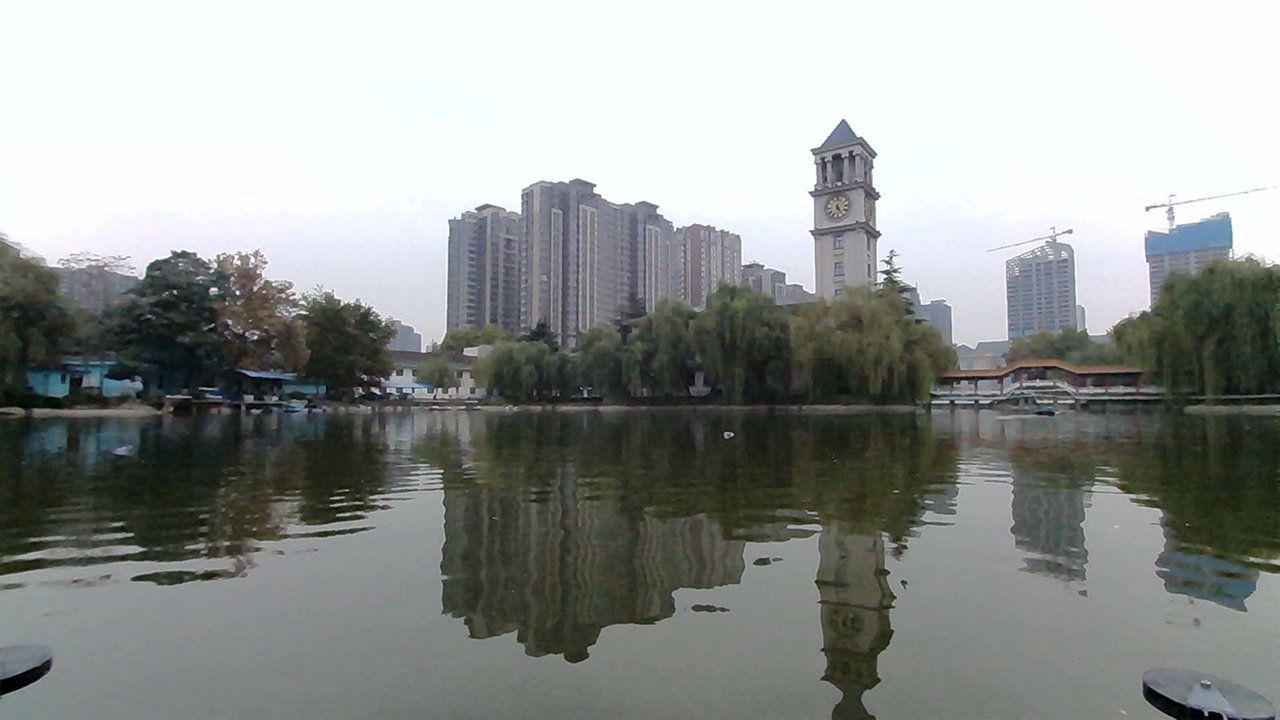bottle: (116, 428, 165, 465), (706, 417, 749, 446)
